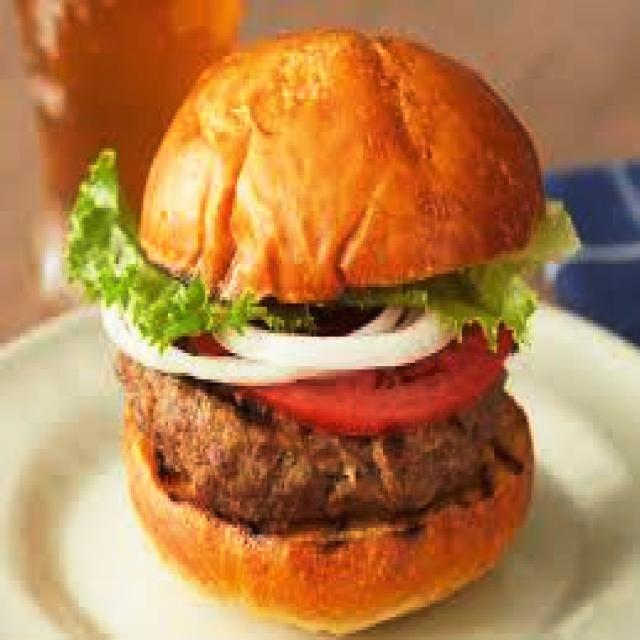burger: (64, 32, 586, 635)
